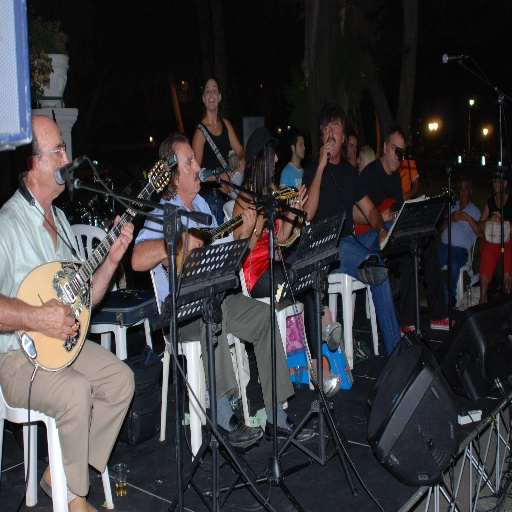hand: (27, 284, 64, 356), (105, 213, 135, 267), (287, 182, 309, 218), (178, 229, 205, 258), (240, 202, 256, 238), (218, 169, 238, 196), (318, 140, 334, 169), (236, 157, 247, 175), (380, 208, 393, 223), (378, 228, 387, 248), (449, 208, 460, 224), (491, 210, 502, 226), (350, 147, 357, 167), (459, 210, 468, 223)
